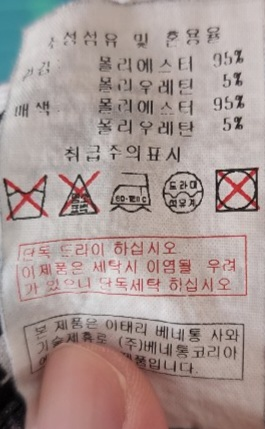KR_dry_clean_petroleum: (160, 165, 206, 216)
